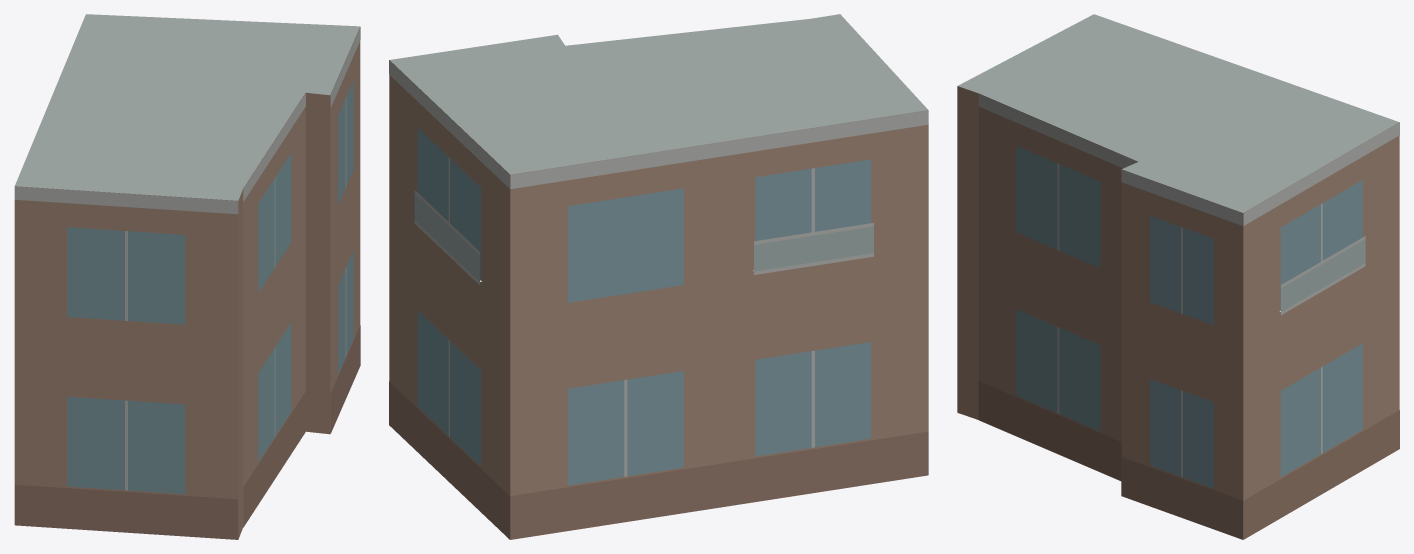
Rendered from survey-upis-32470698.glb.
The picture shows the model from 3 angles, left to right: view 1: azimuth 30°, elevation 25°; view 2: azimuth 150°, elevation 25°; view 3: azimuth 270°, elevation 25°; orthographic projection. The views are drawn at different scales.
Parts seen in each view (by area): view 1: survey-upis-32470698.tmp; view 2: survey-upis-32470698.tmp; view 3: survey-upis-32470698.tmp.
Boxes of the visible parts, x1,y1,x2,y2 form: survey-upis-32470698.tmp: (14,14,360,539); survey-upis-32470698.tmp: (389,14,928,539); survey-upis-32470698.tmp: (957,14,1399,539).
Size of the model in its own units: 7.98 by 6.1 by 7.49.
